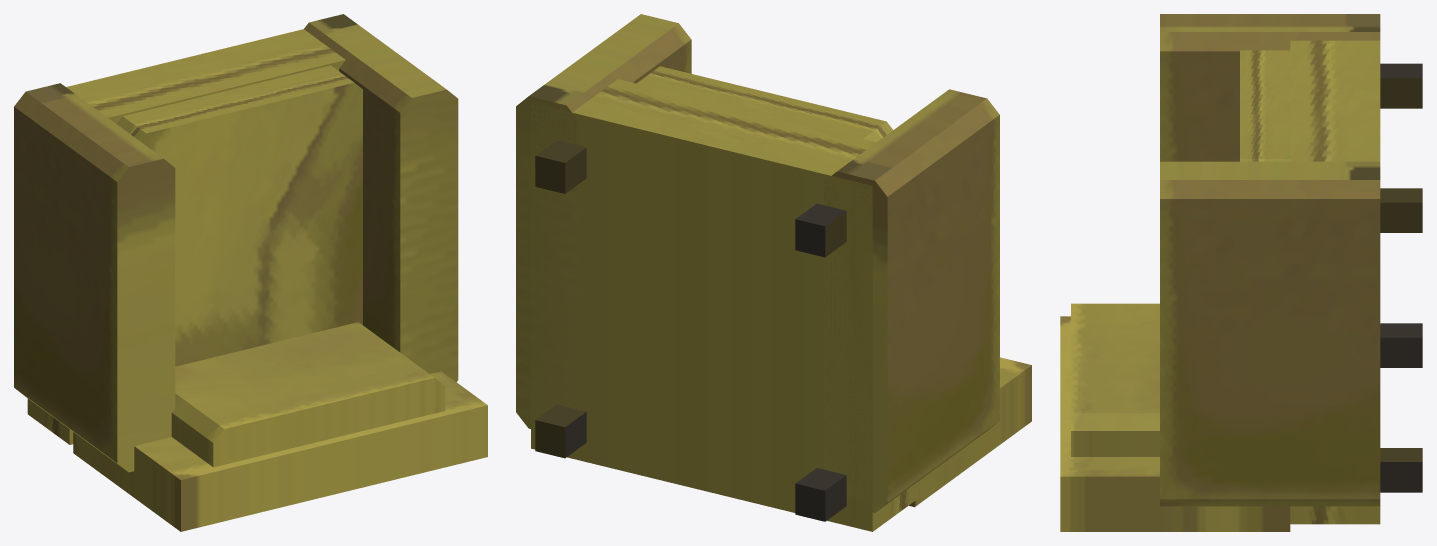
The model's file is pz_chair_seating_indoor_03_yellow_modern.obj.
3 views of the same model, side by side, from view 1: azimuth 30°, elevation 25°; view 2: azimuth 150°, elevation 25°; view 3: azimuth 270°, elevation 25° (orthographic). The views are drawn at different scales.
Parts seen in each view (by area): view 1: root; view 2: root; view 3: root.
Part boxes in pixels (x1,y1,x2,y2): root: (14, 14, 487, 531); root: (516, 14, 1031, 531); root: (1060, 14, 1422, 531).
Bounding box in the file's own units: 1 × 0.93 × 0.86.
Materials: 1 (1 with a texture image).
